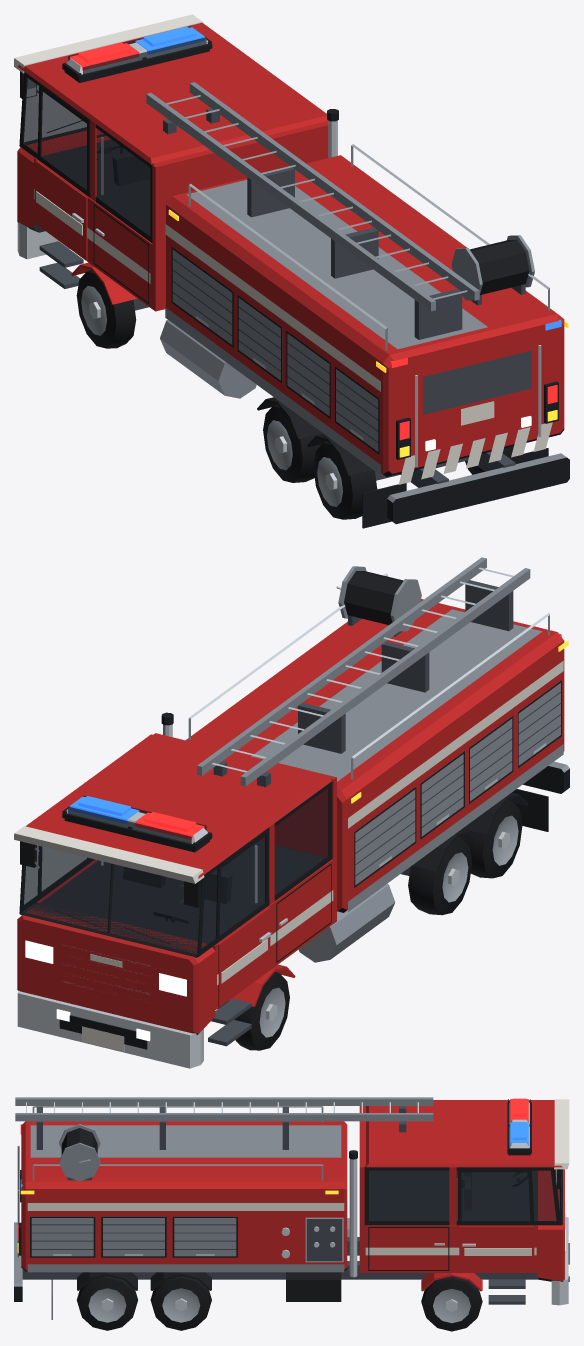
File: firetruck.glb
The picture shows the model from 3 angles, top to bottom: view 1: azimuth 30°, elevation 25°; view 2: azimuth 150°, elevation 25°; view 3: azimuth 270°, elevation 25°; orthographic projection. The views are drawn at different scales.
Visible parts, largest first — view 1: Body, DoorL, Wheel_FL, Wheel_RL, Wheel_ML, SirenBar, SirenBar_R, SirenBar_L; view 2: Body, DoorL, Wheel_ML, Wheel_RL, Wheel_FL, SirenBar, SirenBar_L, SirenBar_R; view 3: Body, DoorR, Wheel_FR, Wheel_RR, Wheel_MR, SirenBar, SirenBar_L, SirenBar_R.
Part boxes in pixels (x1,y1,x2,y2): Body: (14,14,569,528); DoorL: (20,71,90,260); Wheel_FL: (76,269,136,348); Wheel_RL: (313,441,377,519); Wheel_ML: (263,404,323,482); SirenBar: (62,26,212,82); SirenBar_R: (135,26,204,54); SirenBar_L: (70,42,139,70); Body: (14,557,569,1068); DoorL: (179,829,271,1007); Wheel_ML: (408,836,472,915); Wheel_RL: (461,799,522,878); Wheel_FL: (234,971,289,1050); SirenBar: (62,795,212,852); SirenBar_L: (135,812,204,839); SirenBar_R: (70,796,139,823); Body: (14,1097,569,1319); DoorR: (458,1169,560,1272); Wheel_FR: (421,1276,482,1331); Wheel_RR: (77,1276,137,1330); Wheel_MR: (150,1276,211,1330); SirenBar: (507,1099,531,1155); SirenBar_L: (510,1098,528,1121); SirenBar_R: (510,1122,528,1145).
Size of the model in its own units: 2.62 by 3.38 by 9.04.
